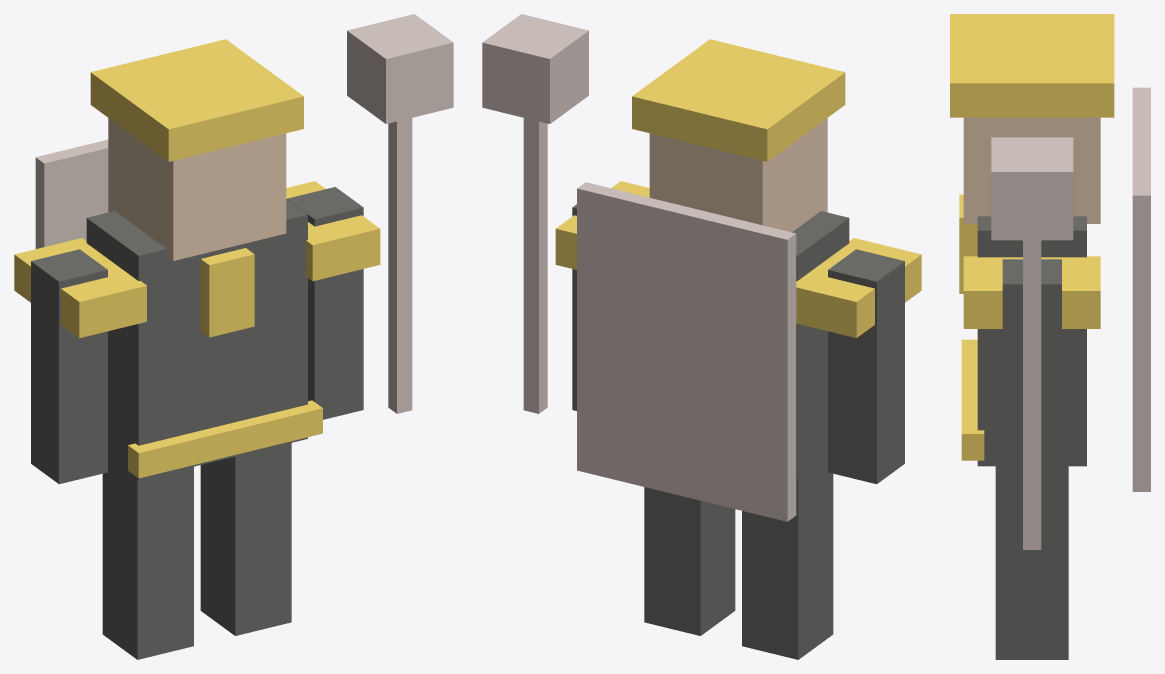
Rendered from 06_vexa_rootborne_engineer_from_slag.glb.
3 renders of one model, left to right at view 1: azimuth 30°, elevation 25°; view 2: azimuth 150°, elevation 25°; view 3: azimuth 270°, elevation 25°, orthographic. The views are drawn at different scales.
Visible parts, largest first — view 1: Vexa Rootborne, Engineer from Slag; view 2: Vexa Rootborne, Engineer from Slag; view 3: Vexa Rootborne, Engineer from Slag.
Part boxes in pixels (x1=…): Vexa Rootborne, Engineer from Slag: x1=14, y1=14, x2=453, y2=659; Vexa Rootborne, Engineer from Slag: x1=482, y1=14, x2=921, y2=659; Vexa Rootborne, Engineer from Slag: x1=950, y1=14, x2=1150, y2=659.
Size of the model in its own units: 1.06 by 1.41 by 0.4492.
